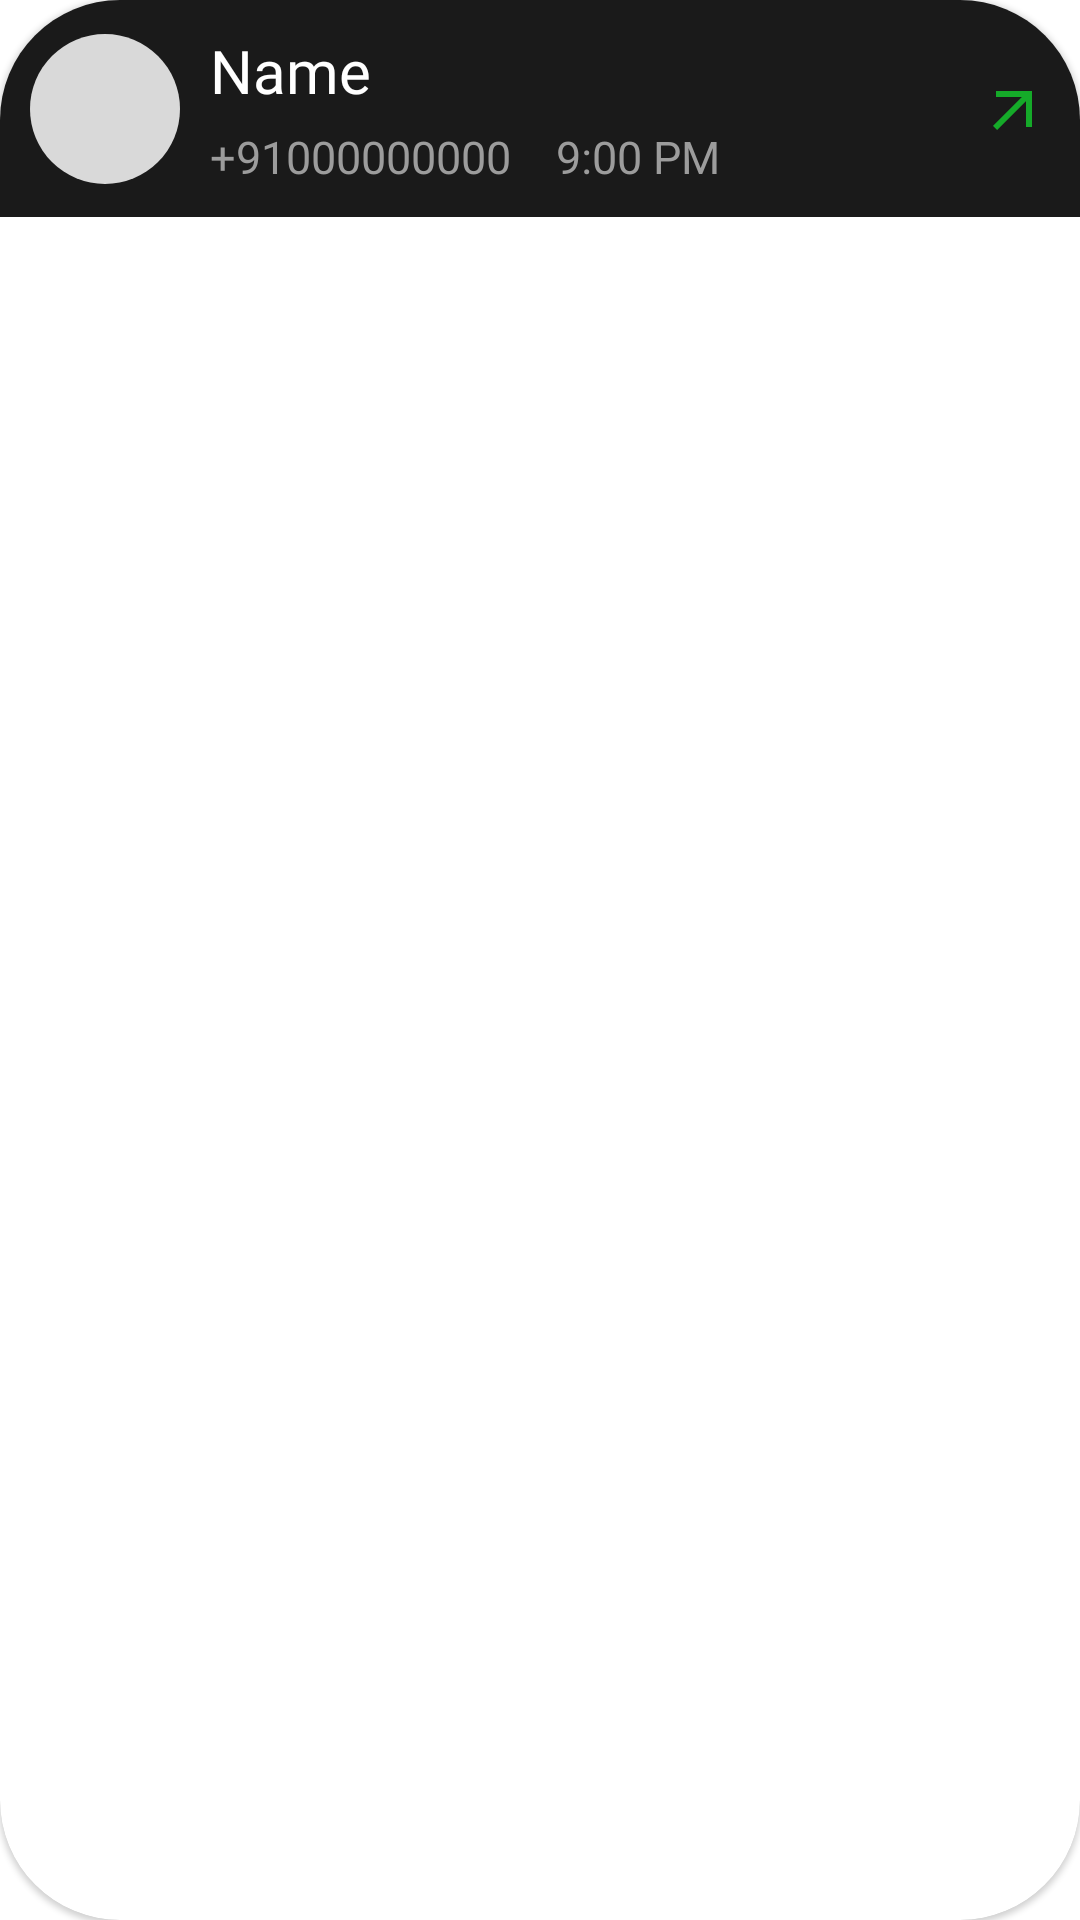

Where to tap for icons on this 1080x1920 app screen, as point (x, y):
arrow outward: point (1012, 110)
